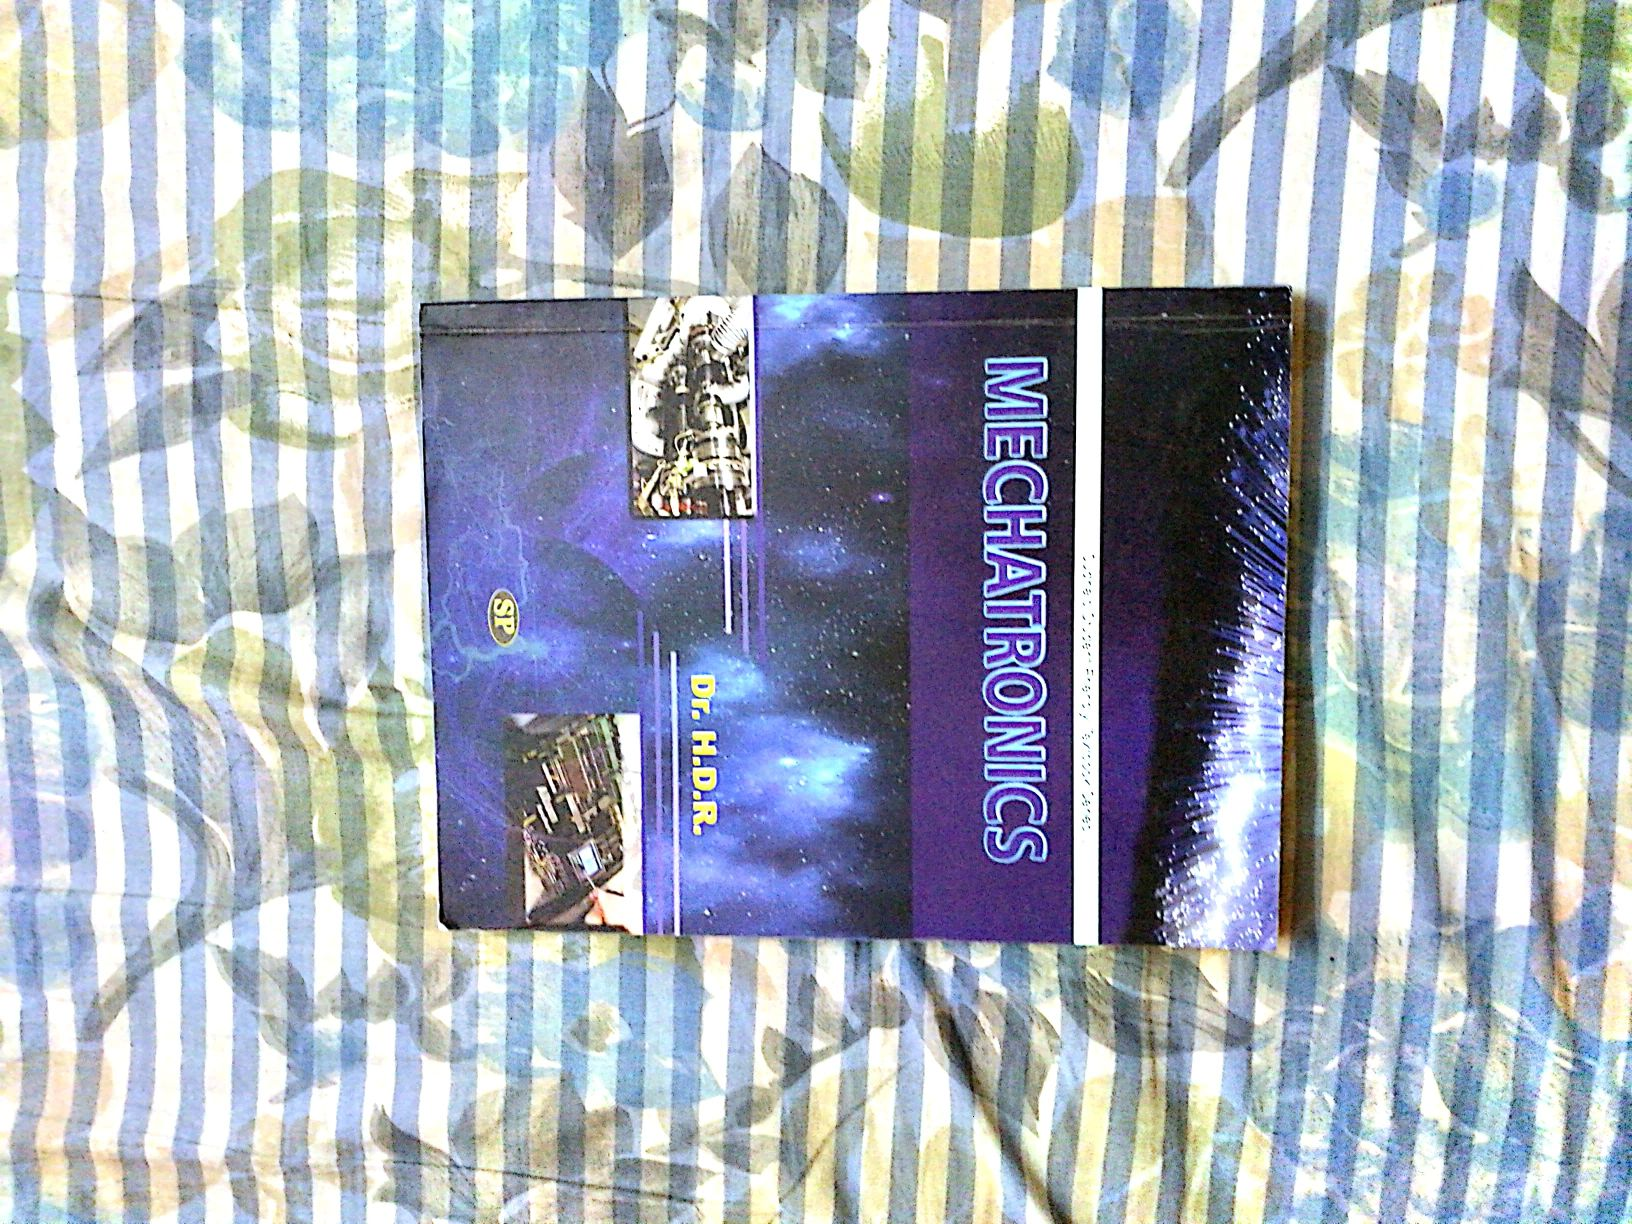mechatronics: (386, 282, 1336, 969)
